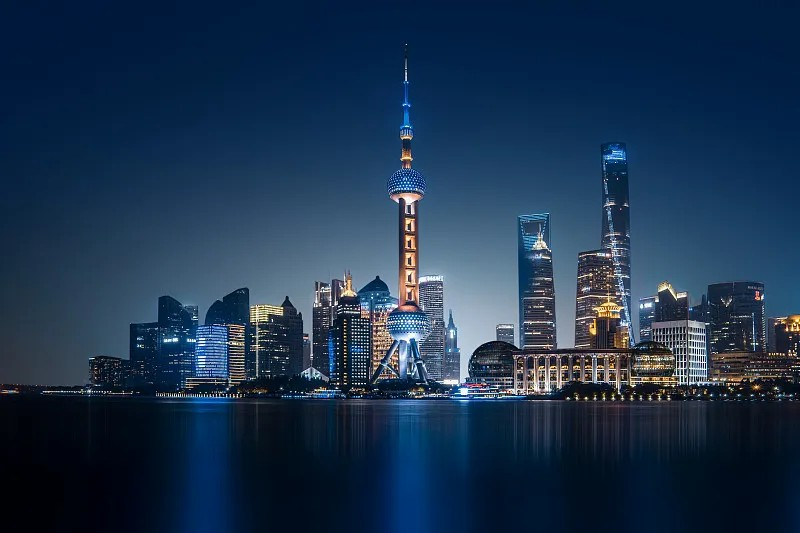Oriental: (371, 42, 431, 381)
